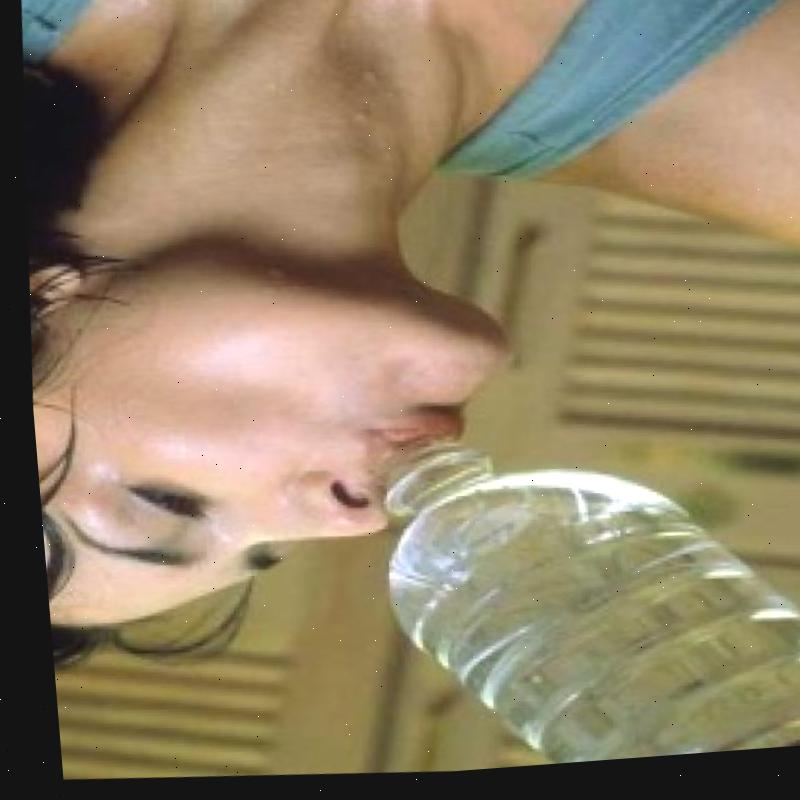botella: (352, 403, 800, 781)
